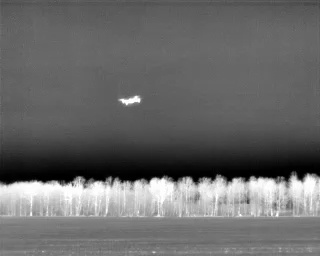DRONE: (115, 90, 146, 110)
